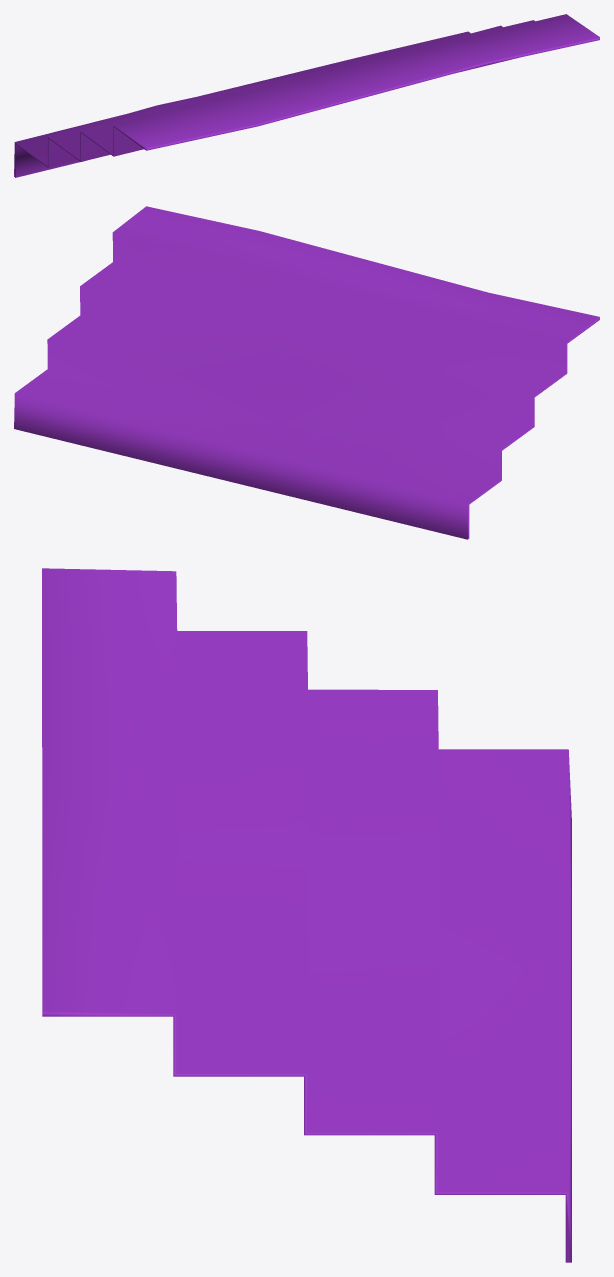
File: Stairs_04_Lod0.fbx
3 renders of one model, top to bottom at view 1: azimuth 30°, elevation 25°; view 2: azimuth 150°, elevation 25°; view 3: azimuth 270°, elevation 25°, orthographic. The views are drawn at different scales.
Visible parts, largest first — view 1: Stairs_04_Lod0; view 2: Stairs_04_Lod0; view 3: Stairs_04_Lod0.
Part boxes in pixels (left/top/right/bottom): Stairs_04_Lod0: left=14, top=14, right=599, bottom=177; Stairs_04_Lod0: left=14, top=206, right=599, bottom=539; Stairs_04_Lod0: left=42, top=568, right=571, bottom=1262.
Size of the model in its own units: 300 by 81.38 by 152.
